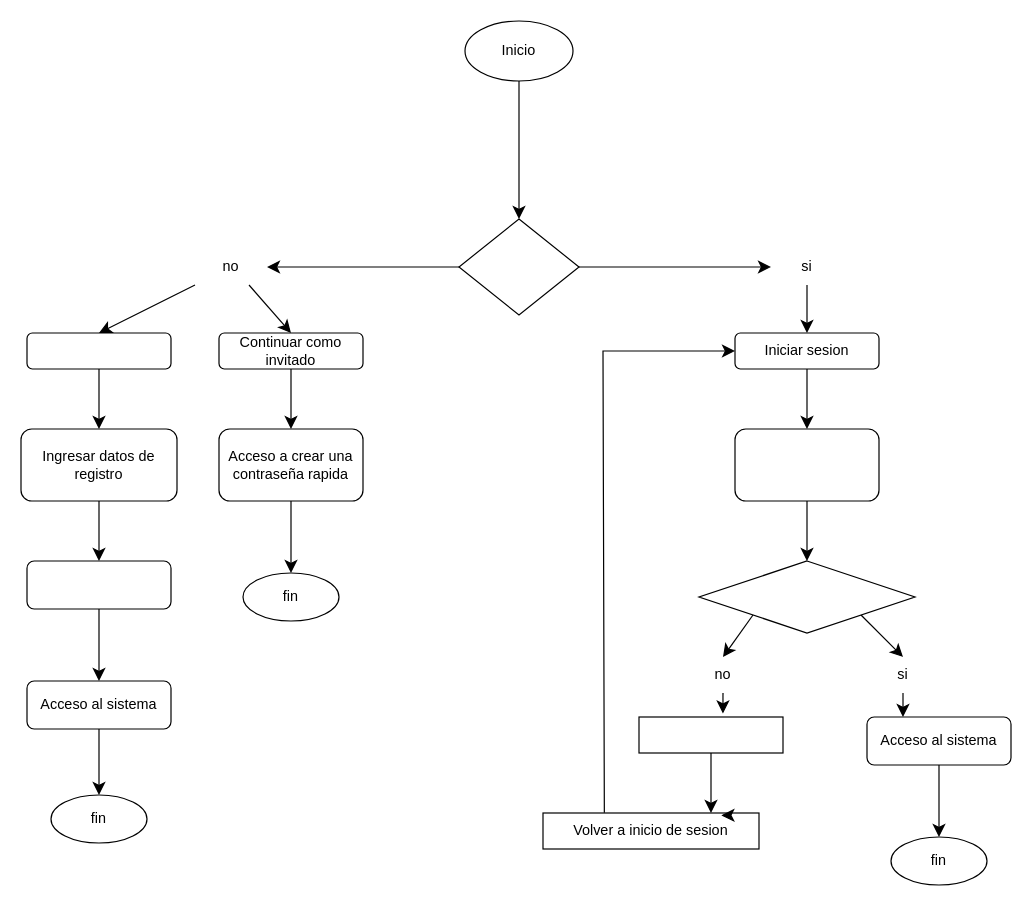
Some shapes in this 1032 by 906 pixel diagram are drawn without their labels. Each missing label, with the box of its shape:
Crear cuenta nueva: (26, 332, 171, 369)
Credenciales validas?: (698, 560, 915, 633)
Guardar cuenta: (26, 560, 171, 609)
Mostrar error: (638, 716, 783, 753)
Tiene cuenta?: (458, 218, 579, 315)
Validar credenciales: -Usuario -Contraseña: (734, 428, 879, 501)
